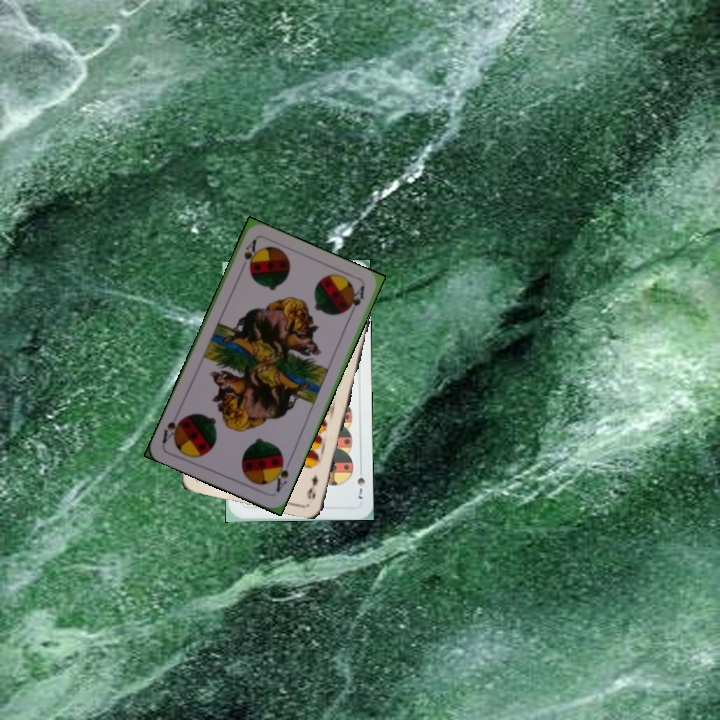E9: (304, 470, 321, 502)
S7: (352, 463, 367, 502)
SA: (269, 454, 293, 495), (236, 235, 260, 274)
